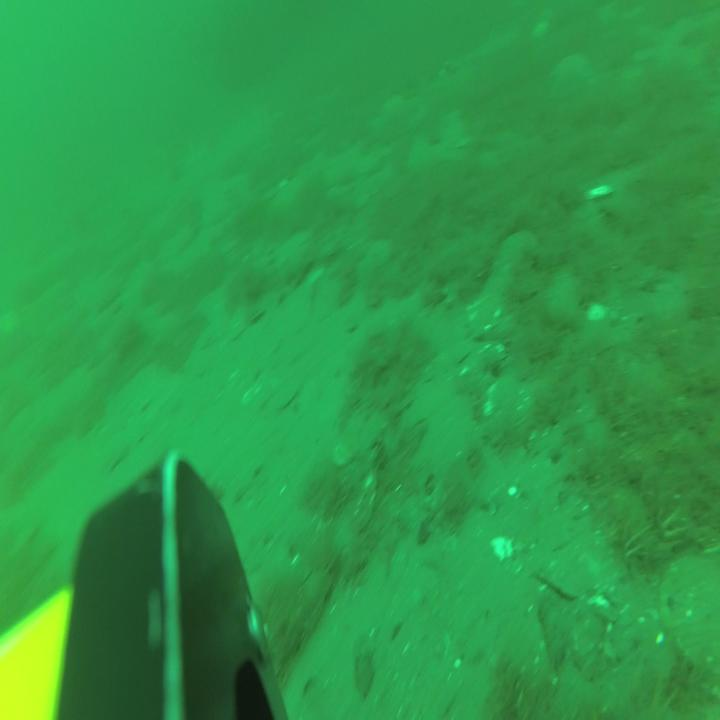scallop: (664, 552, 720, 668)
starfish: (550, 52, 589, 96), (380, 90, 415, 136)
